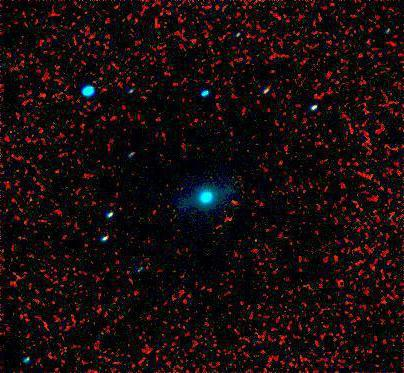star: (220, 187, 250, 217)
